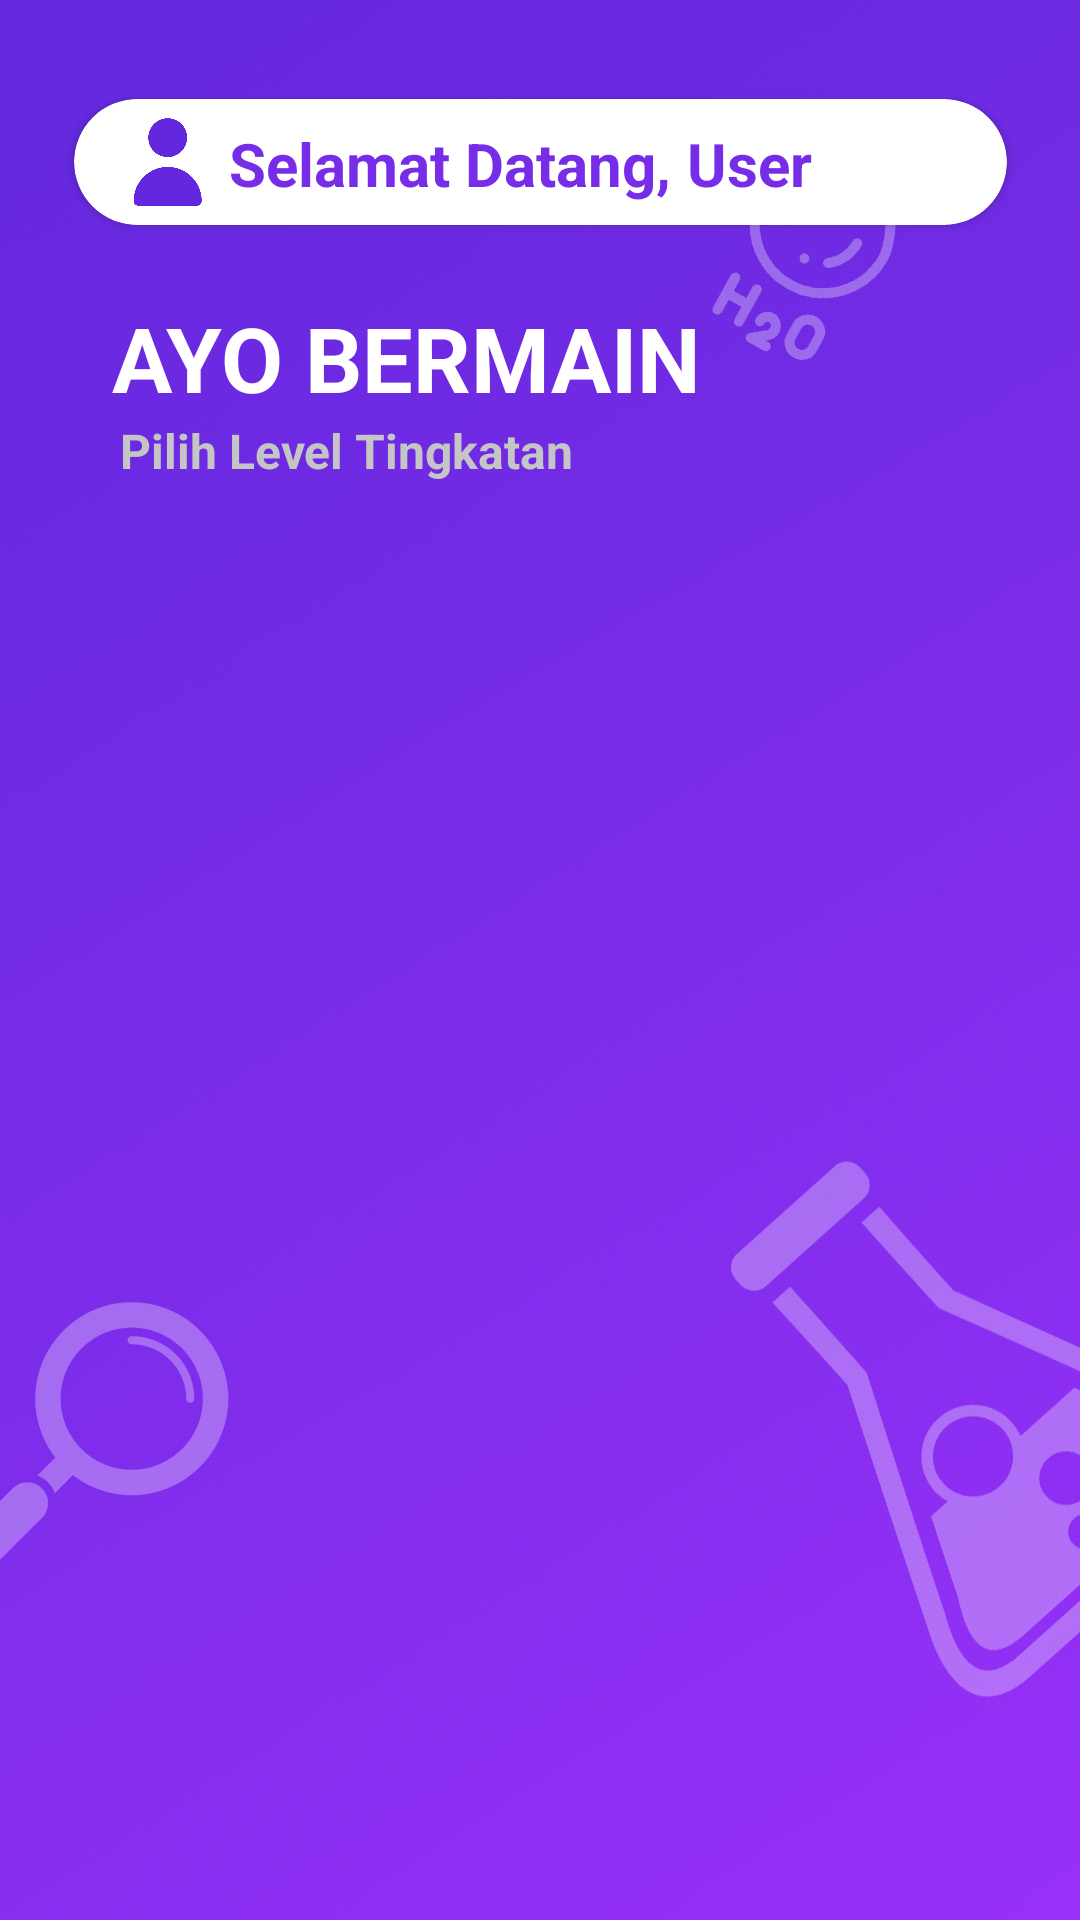

Icons on this 1080px x 1920px Android screen, each with its box as [x1, y1, x2, y2]:
person: [134, 118, 202, 206]
